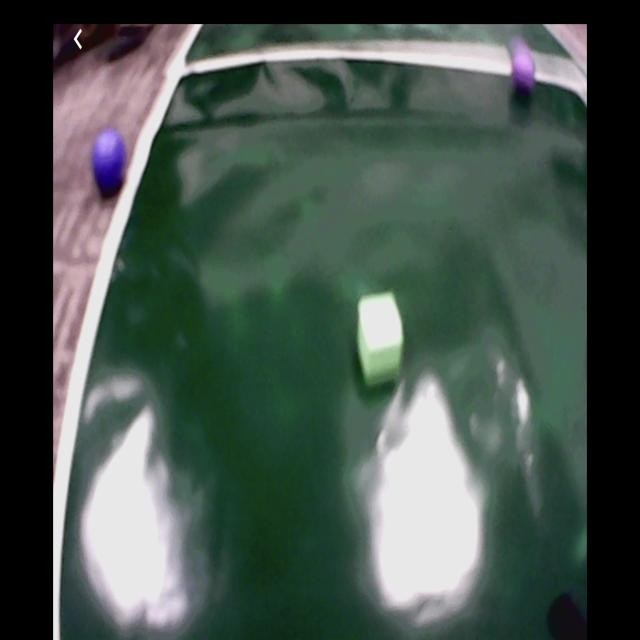ball: (93, 132, 127, 190), (512, 54, 536, 91)
